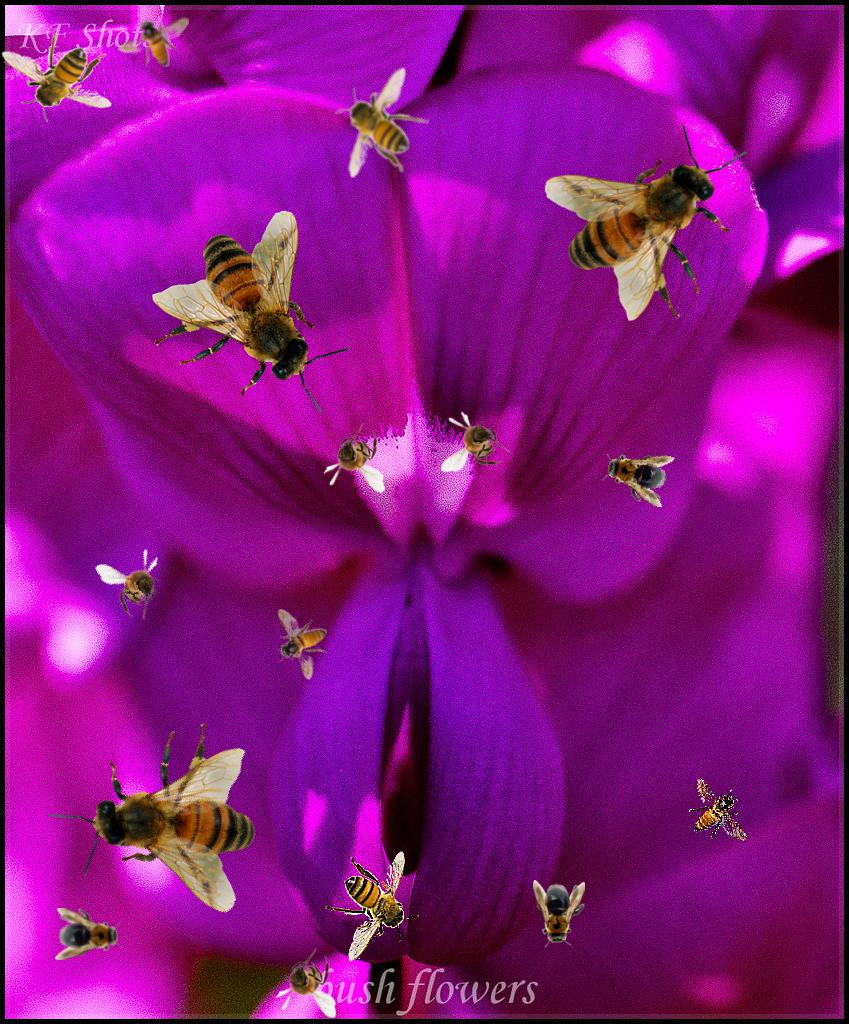Bee: (30, 679, 313, 961), (544, 122, 748, 321), (152, 210, 351, 414), (325, 851, 419, 962), (335, 67, 429, 178), (1, 28, 112, 122), (94, 538, 181, 630), (681, 770, 749, 853), (597, 442, 675, 508), (322, 422, 385, 494), (275, 948, 336, 1018), (441, 411, 511, 472), (277, 609, 327, 680), (118, 17, 189, 67), (55, 908, 123, 960), (533, 880, 585, 948)
